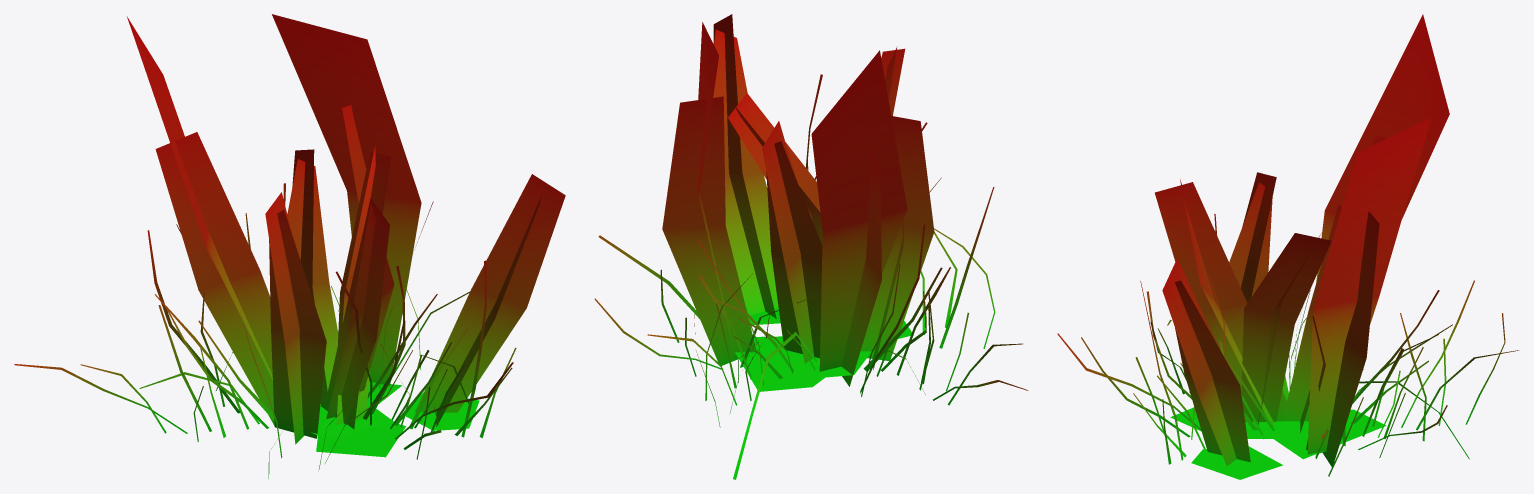
File: Thatching Grass_LOD2_Var12_uddmcgbia.fbx
The picture shows the model from 3 angles, left to right: view 1: azimuth 30°, elevation 25°; view 2: azimuth 150°, elevation 25°; view 3: azimuth 270°, elevation 25°; orthographic projection. The views are drawn at different scales.
Visible parts, largest first — view 1: _d296_Var12_LOD2; view 2: _d296_Var12_LOD2; view 3: _d296_Var12_LOD2.
Part boxes in pixels (left/top/right/bottom): _d296_Var12_LOD2: left=14, top=14, right=565, bottom=478; _d296_Var12_LOD2: left=594, top=14, right=1028, bottom=479; _d296_Var12_LOD2: left=1057, top=14, right=1519, bottom=479.
Bounding box in the file's own units: 15.55 × 13.9 × 14.8.
